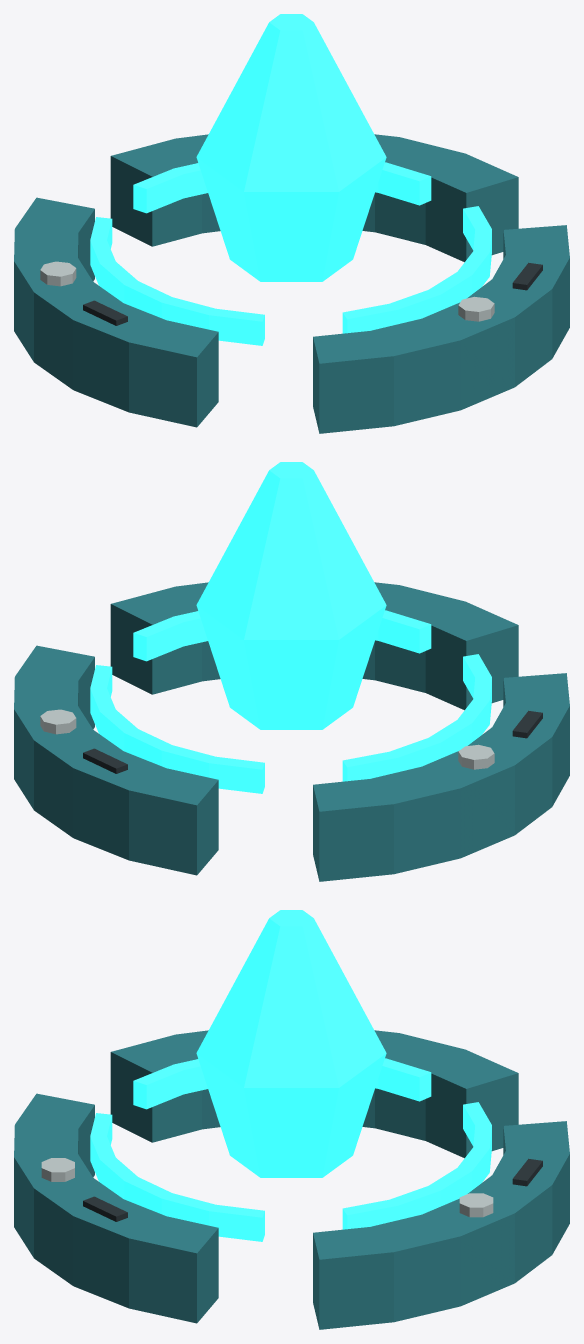
Rendered from City_ChargePost_InductionHalo.glb.
3 views of the same model, one above another, from view 1: azimuth 30°, elevation 25°; view 2: azimuth 150°, elevation 25°; view 3: azimuth 270°, elevation 25° (orthographic).
Visible parts, largest first — view 1: City_ChargePost_InductionHalo; view 2: City_ChargePost_InductionHalo; view 3: City_ChargePost_InductionHalo.
Boxes of the visible parts, x1,y1,x2,y2 form: City_ChargePost_InductionHalo: (14, 14, 569, 433); City_ChargePost_InductionHalo: (14, 462, 569, 881); City_ChargePost_InductionHalo: (14, 910, 569, 1329).
Bounding box in the file's own units: 0.9341 × 0.545 × 0.9341.
